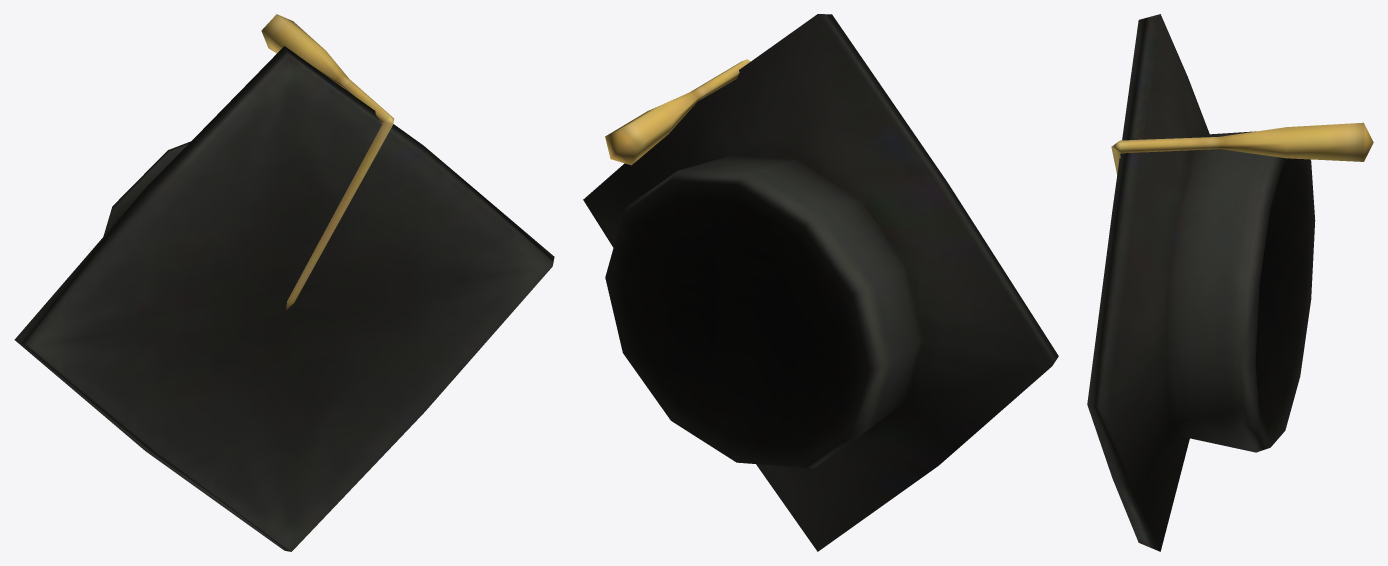
The model's file is teacherHat.glb.
3 views of the same model, side by side, from view 1: azimuth 30°, elevation 25°; view 2: azimuth 150°, elevation 25°; view 3: azimuth 270°, elevation 25° (orthographic). The views are drawn at different scales.
Visible parts, largest first — view 1: teacherHat; view 2: teacherHat; view 3: teacherHat.
Boxes of the visible parts, <box> form: teacherHat: <box>14,14,554,551</box>; teacherHat: <box>583,14,1058,551</box>; teacherHat: <box>1087,14,1373,551</box>.
Bounding box in the file's own units: 0.4239 × 0.4171 × 0.2013.
1 material, 1 textured.
